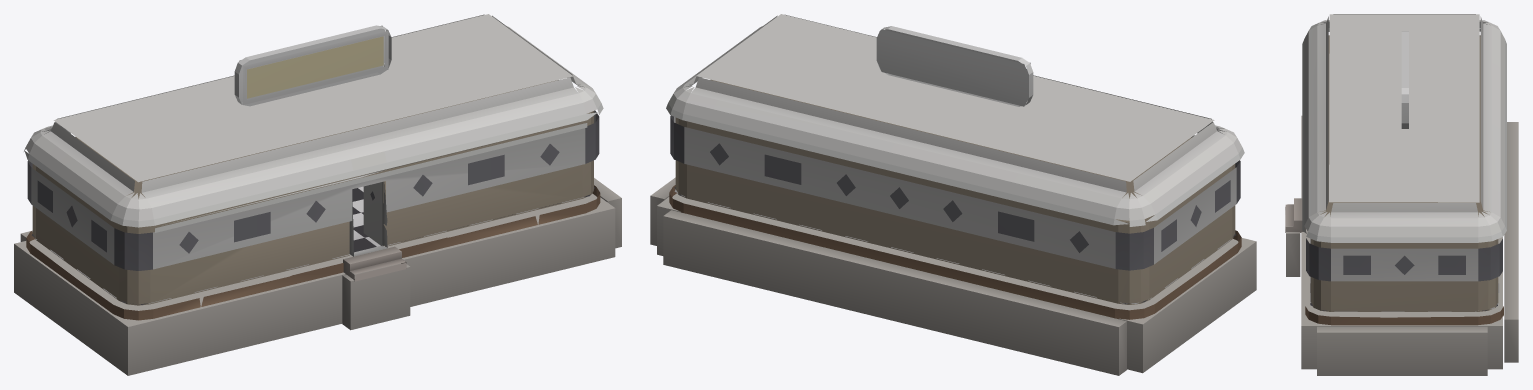
The model's file is diner.lod.glb.
3 renders of one model, left to right at view 1: azimuth 30°, elevation 25°; view 2: azimuth 150°, elevation 25°; view 3: azimuth 270°, elevation 25°, orthographic. The views are drawn at different scales.
Visible parts, largest first — view 1: diner; view 2: diner; view 3: diner.
Boxes of the visible parts, x1,y1,x2,y2 form: diner: (14,14,621,375); diner: (650,14,1256,375); diner: (1285,14,1518,375).
Bounding box in the file's own units: 16.48 × 7.22 × 7.48.
